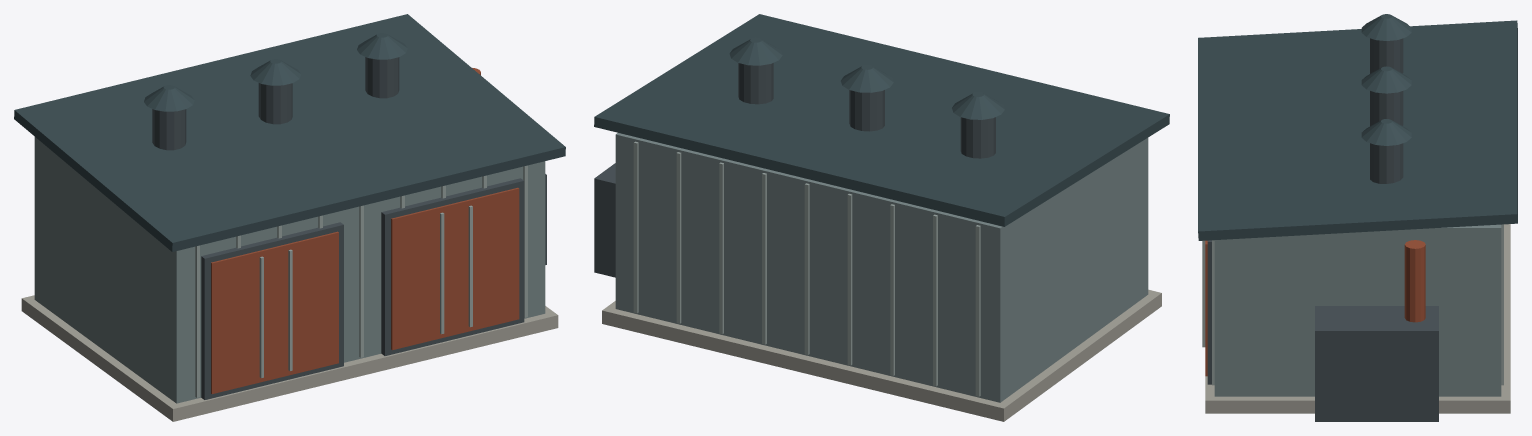
File: drying_kiln.glb
3 renders of one model, left to right at view 1: azimuth 30°, elevation 25°; view 2: azimuth 150°, elevation 25°; view 3: azimuth 270°, elevation 25°, orthographic. The views are drawn at different scales.
Visible parts, largest first — view 1: drying_kiln; view 2: drying_kiln; view 3: drying_kiln.
Boxes of the visible parts, x1=… form: drying_kiln: x1=14, y1=14, x2=565, y2=421; drying_kiln: x1=594, y1=14, x2=1169, y2=421; drying_kiln: x1=1198, y1=14, x2=1517, y2=421.
Bounding box in the file's own units: 10.55 × 5.78 × 6.7.
